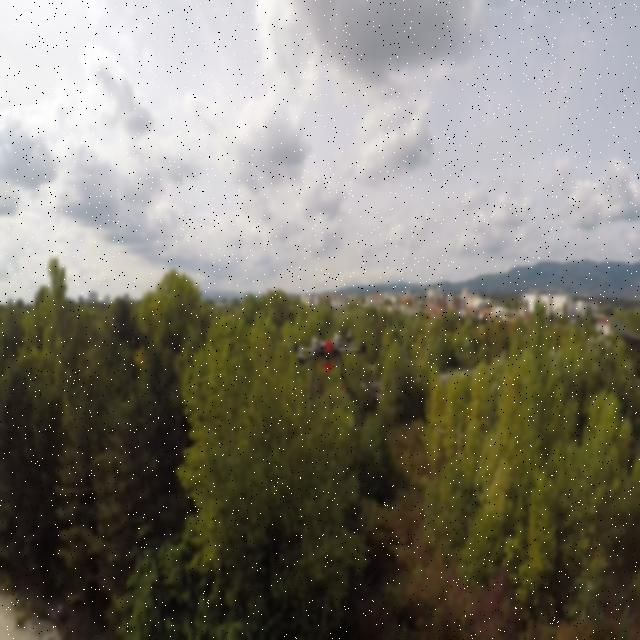UAV: (287, 328, 375, 412)
